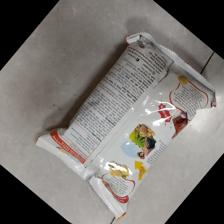Lays: (33, 29, 219, 219)
